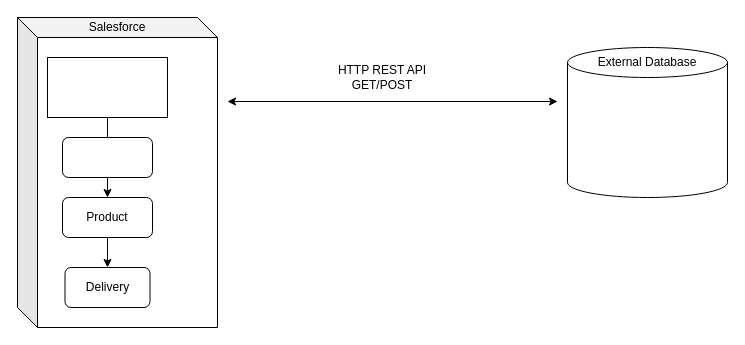
This 745x345 diagram has some shape labels left out. The shapes that lost their labels are listed below. From the top down, each one's box as (x1, y1, x2, y2) in pixels, then its label:
(46, 56, 168, 118): Apex Classes REST API
(62, 136, 152, 178): Order
